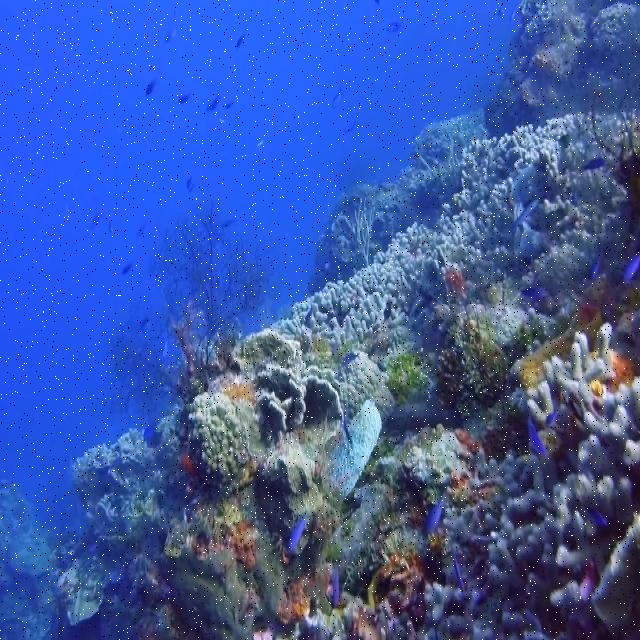reefs: (393, 324, 638, 639), (267, 111, 597, 344), (255, 364, 347, 448), (187, 391, 251, 490)
